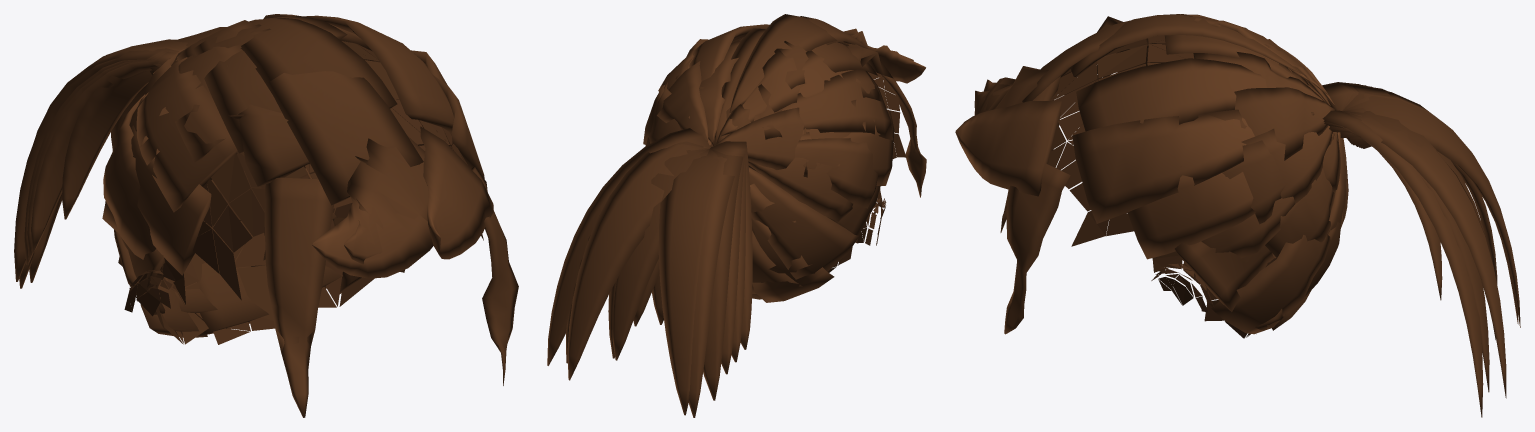
The model's file is kopf.haar.zopf_wild.glb.
3 views of the same model, side by side, from view 1: azimuth 30°, elevation 25°; view 2: azimuth 150°, elevation 25°; view 3: azimuth 270°, elevation 25° (orthographic). The views are drawn at different scales.
Visible parts, largest first — view 1: haar; view 2: haar; view 3: haar.
Part boxes in pixels (box(x1,y1,x2,y2)): haar: box(14, 14, 518, 417); haar: box(547, 14, 926, 417); haar: box(955, 14, 1520, 417).
Bounding box in the file's own units: 0.2064 × 0.2423 × 0.374.
